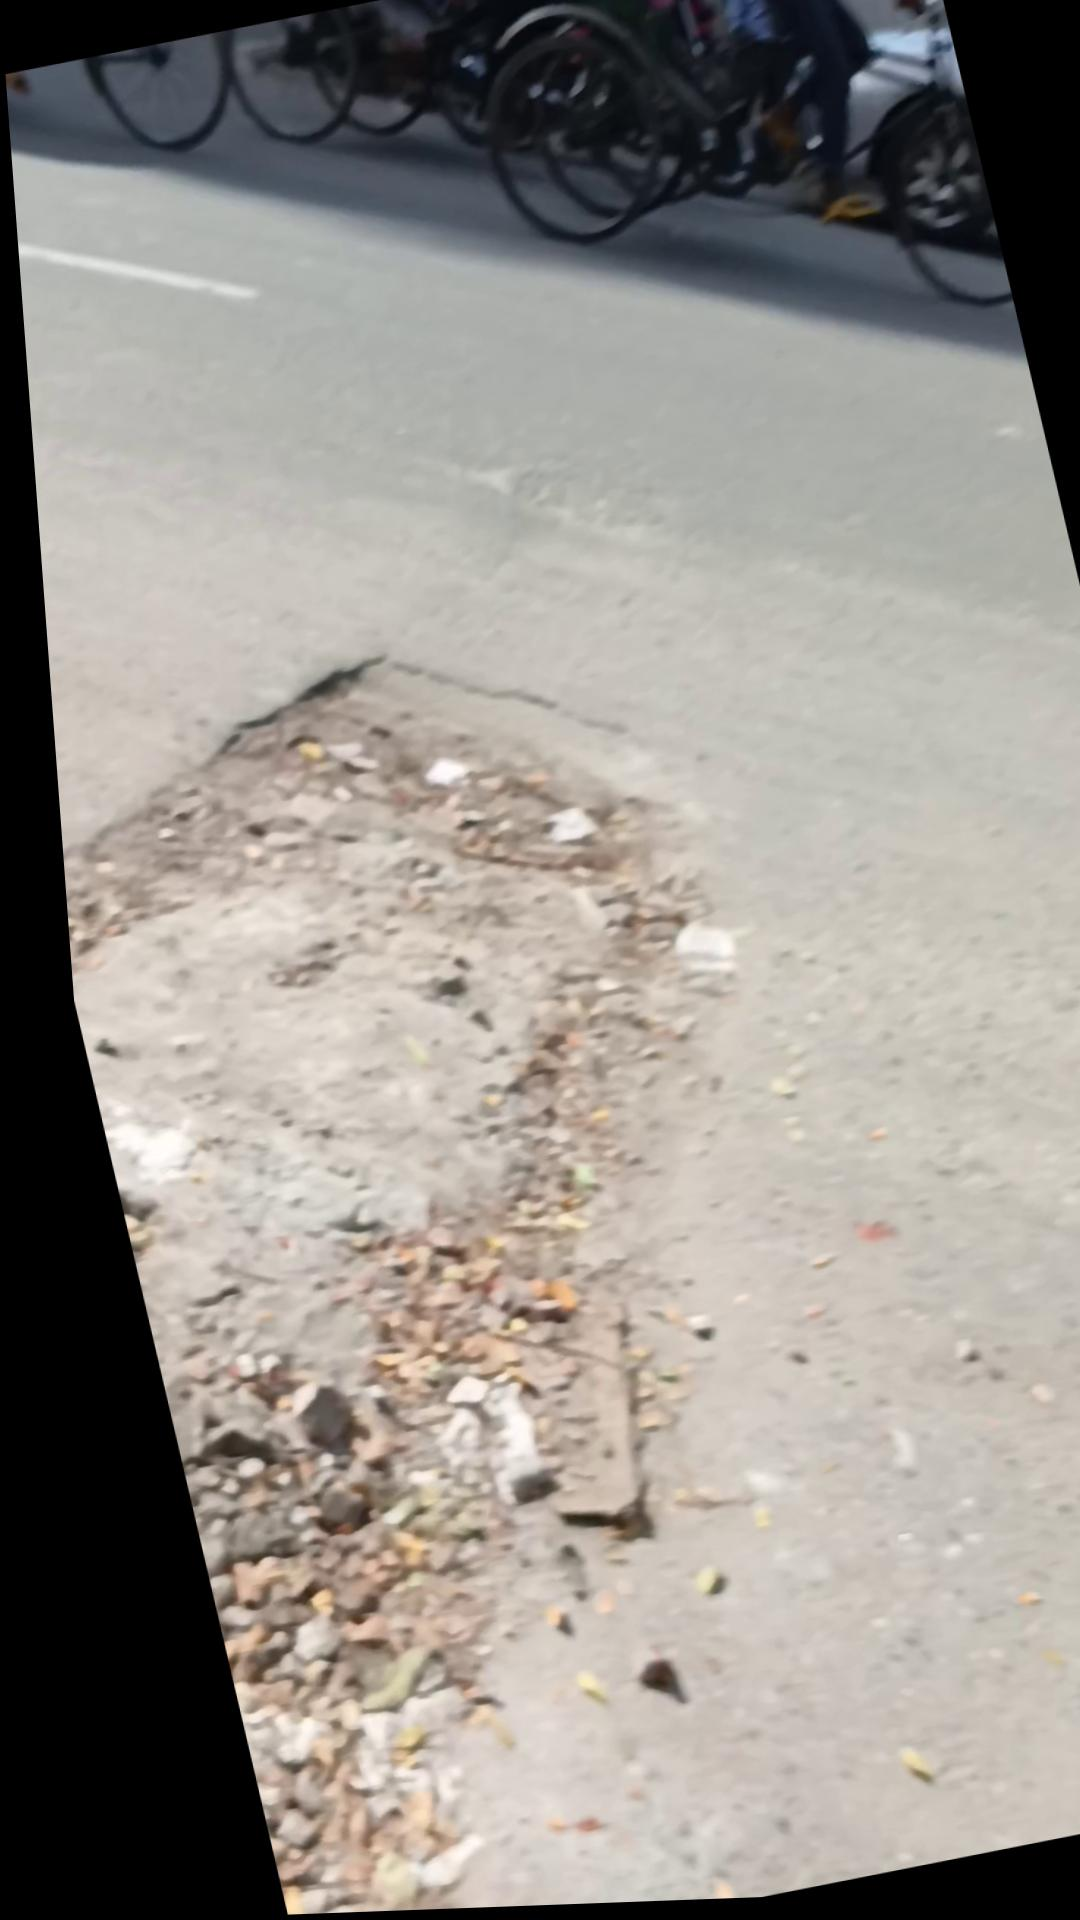Bench: (28, 462, 957, 1920)
Broken-road: (996, 1135, 1080, 1822)
Fence: (440, 0, 1015, 413)
